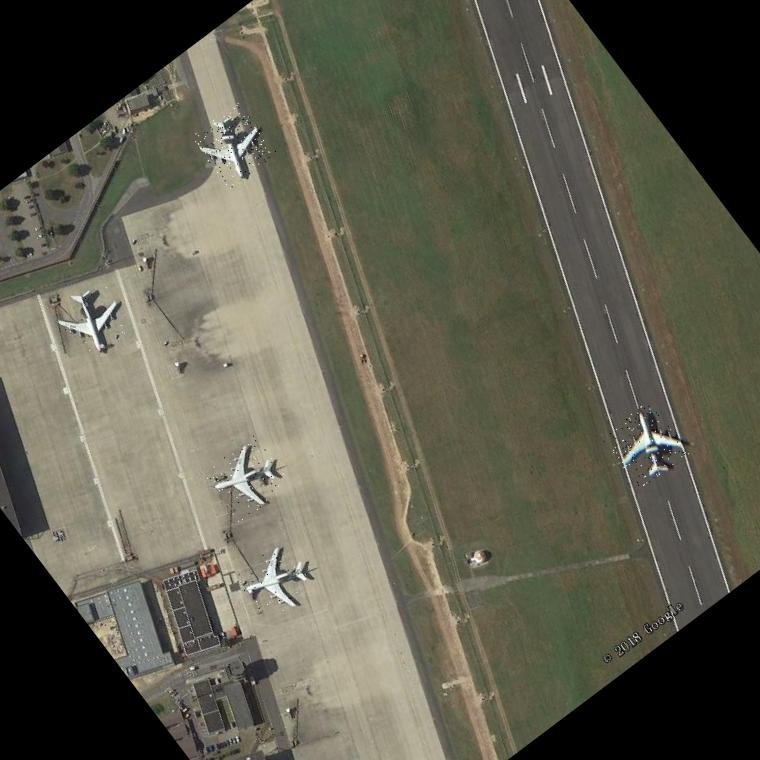A7: (202, 434, 292, 524), (600, 400, 690, 490), (46, 274, 136, 364), (191, 101, 278, 189), (234, 538, 321, 624)
